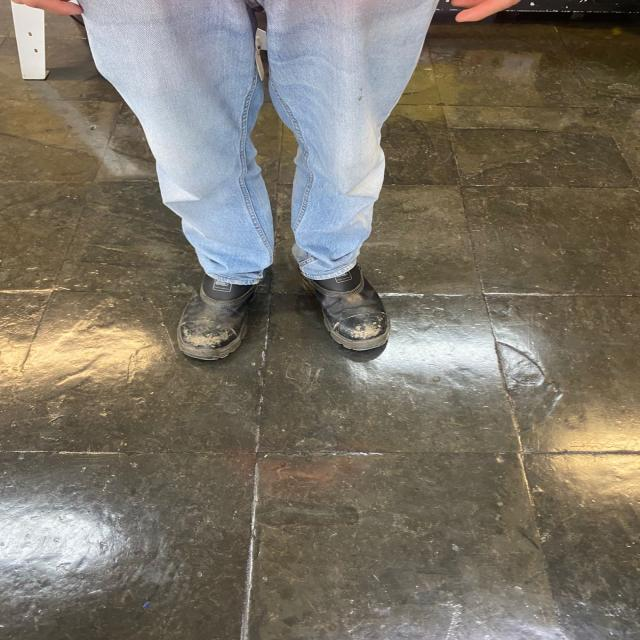BOTA: (283, 231, 413, 357), (170, 240, 283, 362)
